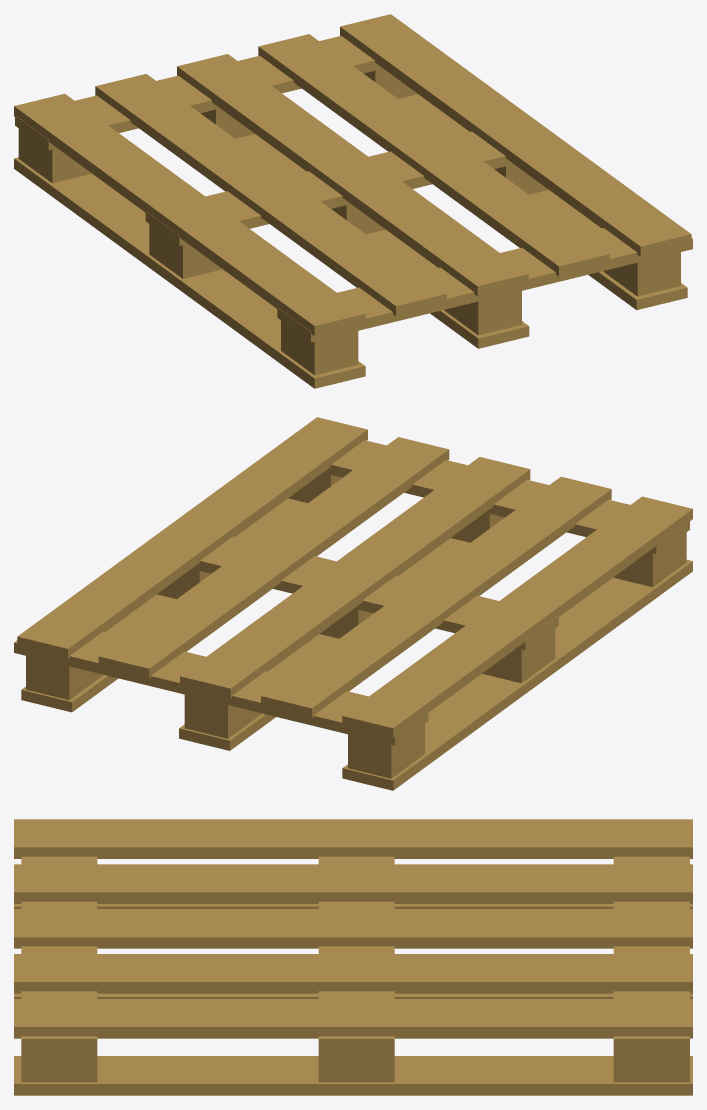
The model's file is Pallet.glb.
3 views of the same model, one above another, from view 1: azimuth 30°, elevation 25°; view 2: azimuth 150°, elevation 25°; view 3: azimuth 270°, elevation 25° (orthographic). The views are drawn at different scales.
Visible parts, largest first — view 1: Pallet; view 2: Pallet; view 3: Pallet.
Part boxes in pixels (<box>): Pallet: <box>14,14,692,388</box>; Pallet: <box>14,417,692,790</box>; Pallet: <box>14,819,692,1095</box>.
Size of the model in its own units: 0.8925 by 0.14 by 1.22.
Materials: 1 (1 with a texture image).
